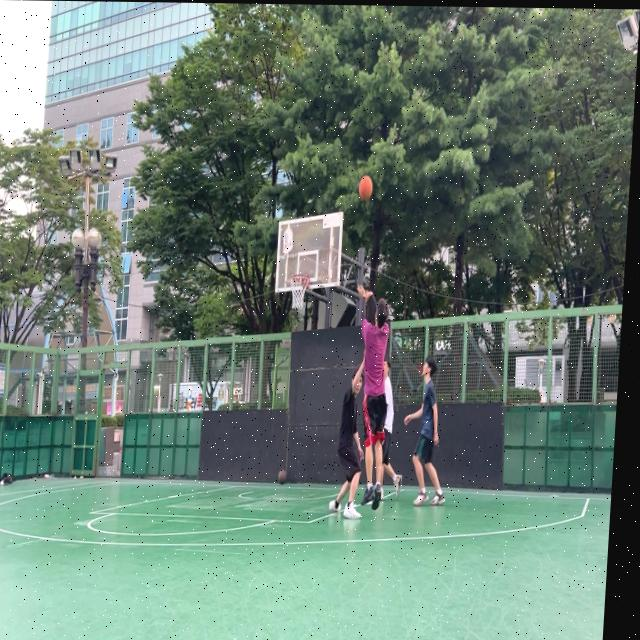basketball: (358, 175, 373, 201), (278, 468, 287, 485)
hoop: (288, 273, 311, 310)
